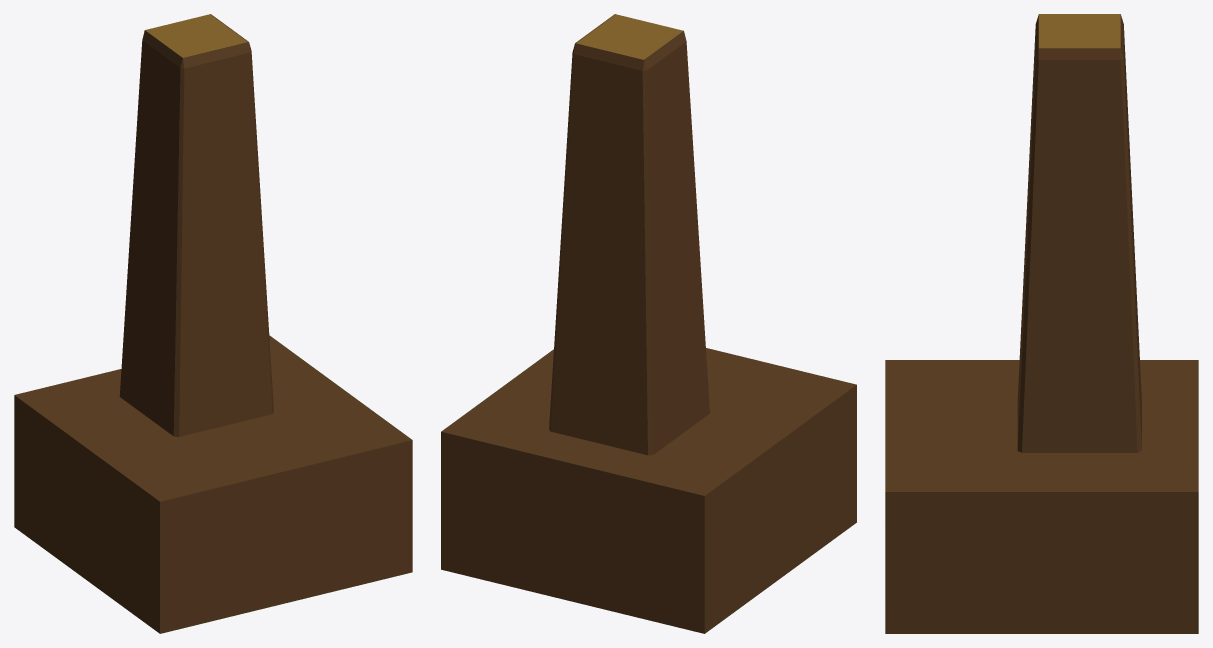
File: tree1 1.fbx
3 views of the same model, side by side, from view 1: azimuth 30°, elevation 25°; view 2: azimuth 150°, elevation 25°; view 3: azimuth 270°, elevation 25° (orthographic). The views are drawn at different scales.
Visible parts, largest first — view 1: Cube.042; view 2: Cube.042; view 3: Cube.042.
Boxes of the visible parts, x1,y1,x2,y2 form: Cube.042: [14, 14, 412, 633]; Cube.042: [441, 14, 856, 633]; Cube.042: [885, 14, 1198, 633].
Bounding box in the file's own units: 248 × 248 × 470.
